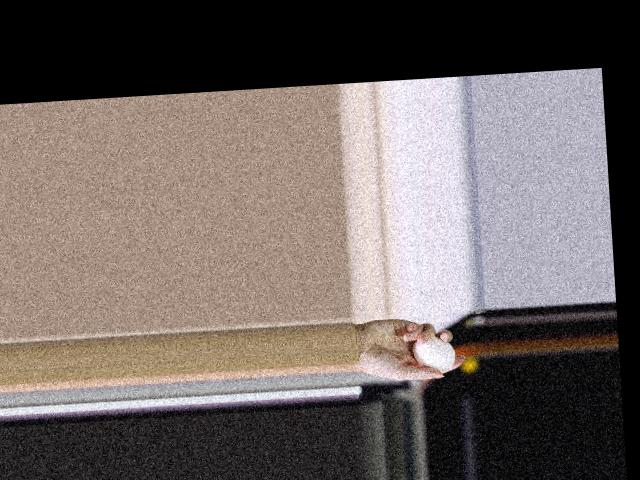egg: (412, 335, 457, 372)
